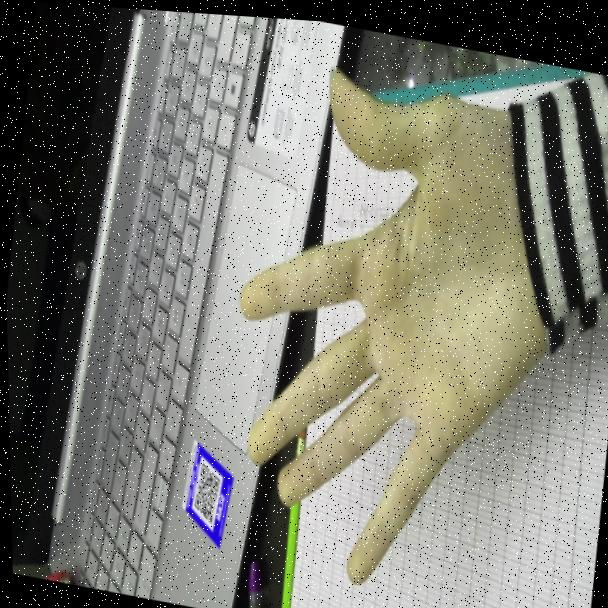five: (200, 40, 603, 608)
